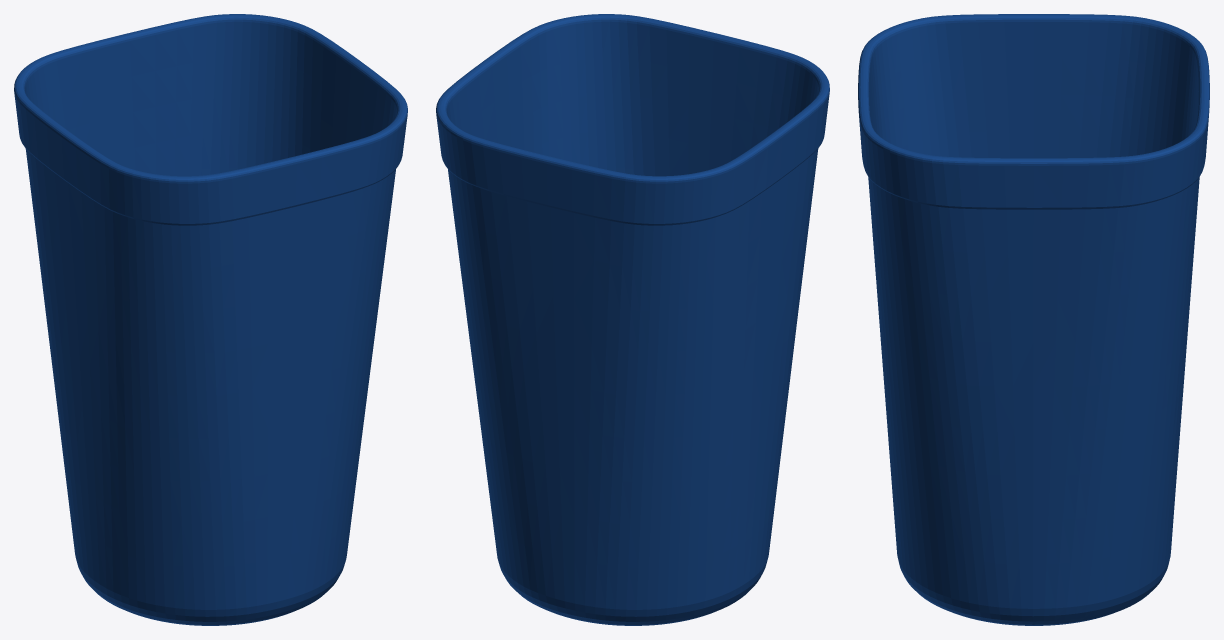
Rendered from dishware_plastic_cup_a01.glb.
The picture shows the model from 3 angles, left to right: view 1: azimuth 30°, elevation 25°; view 2: azimuth 150°, elevation 25°; view 3: azimuth 270°, elevation 25°; orthographic projection.
Visible parts, largest first — view 1: part0; view 2: part0; view 3: part0.
Part boxes in pixels (x1=…): part0: x1=14, y1=14, x2=407, y2=625; part0: x1=436, y1=14, x2=829, y2=625; part0: x1=858, y1=14, x2=1209, y2=625.
Size of the model in its own units: 0.0643 by 0.0999 by 0.0643.
